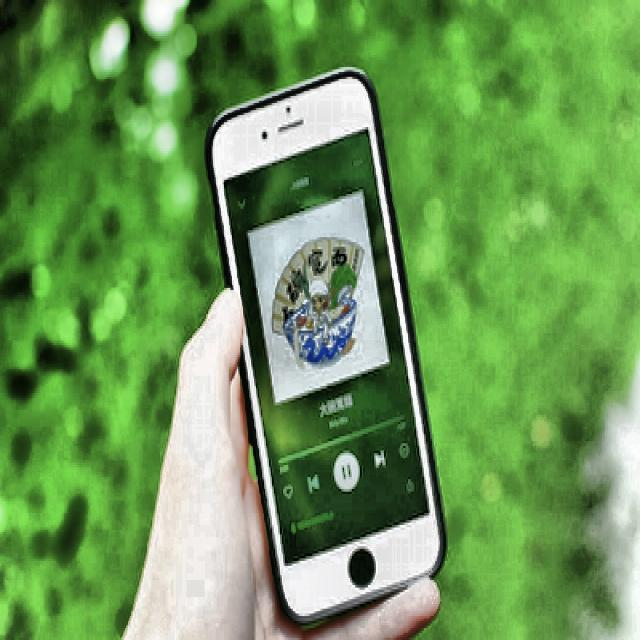Phone: (205, 66, 448, 628)
